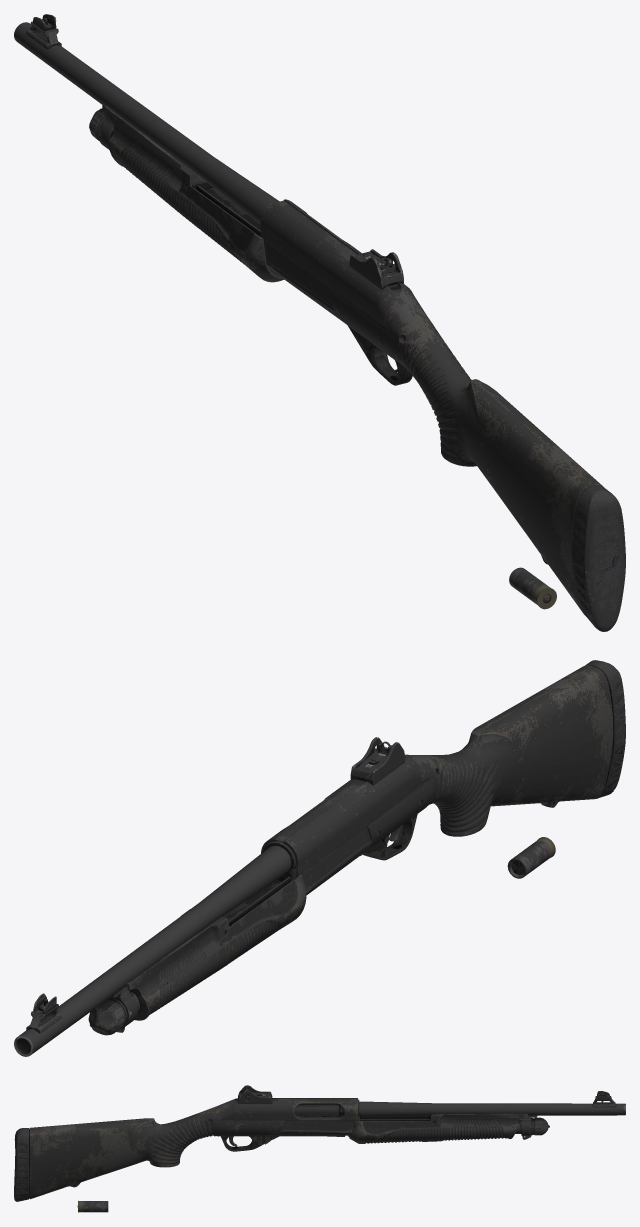
The picture shows the model from 3 angles, top to bottom: view 1: azimuth 30°, elevation 25°; view 2: azimuth 150°, elevation 25°; view 3: azimuth 270°, elevation 25°; orthographic projection. The views are drawn at different scales.
Visible parts, largest first — view 1: v_m3_R; view 2: v_m3_R; view 3: v_m3_R.
Part boxes in pixels (<box>): v_m3_R: <box>14,14,625,631</box>; v_m3_R: <box>14,660,625,1056</box>; v_m3_R: <box>14,1085,625,1212</box>.
Bounding box in the file's own units: 0.0532 × 0.2272 × 1.02.
Materials: 1 (1 with a texture image).
